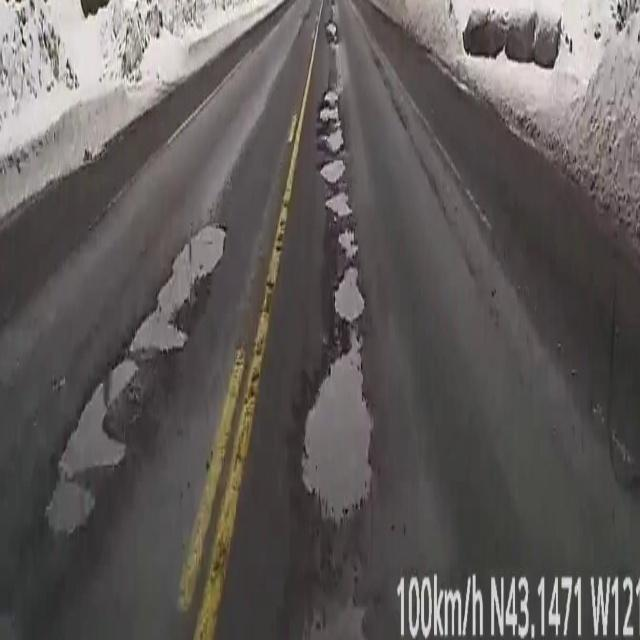pothole: (46, 248, 225, 510), (316, 85, 364, 352), (302, 339, 372, 519)
